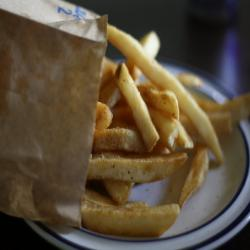fries: (83, 36, 220, 237)
